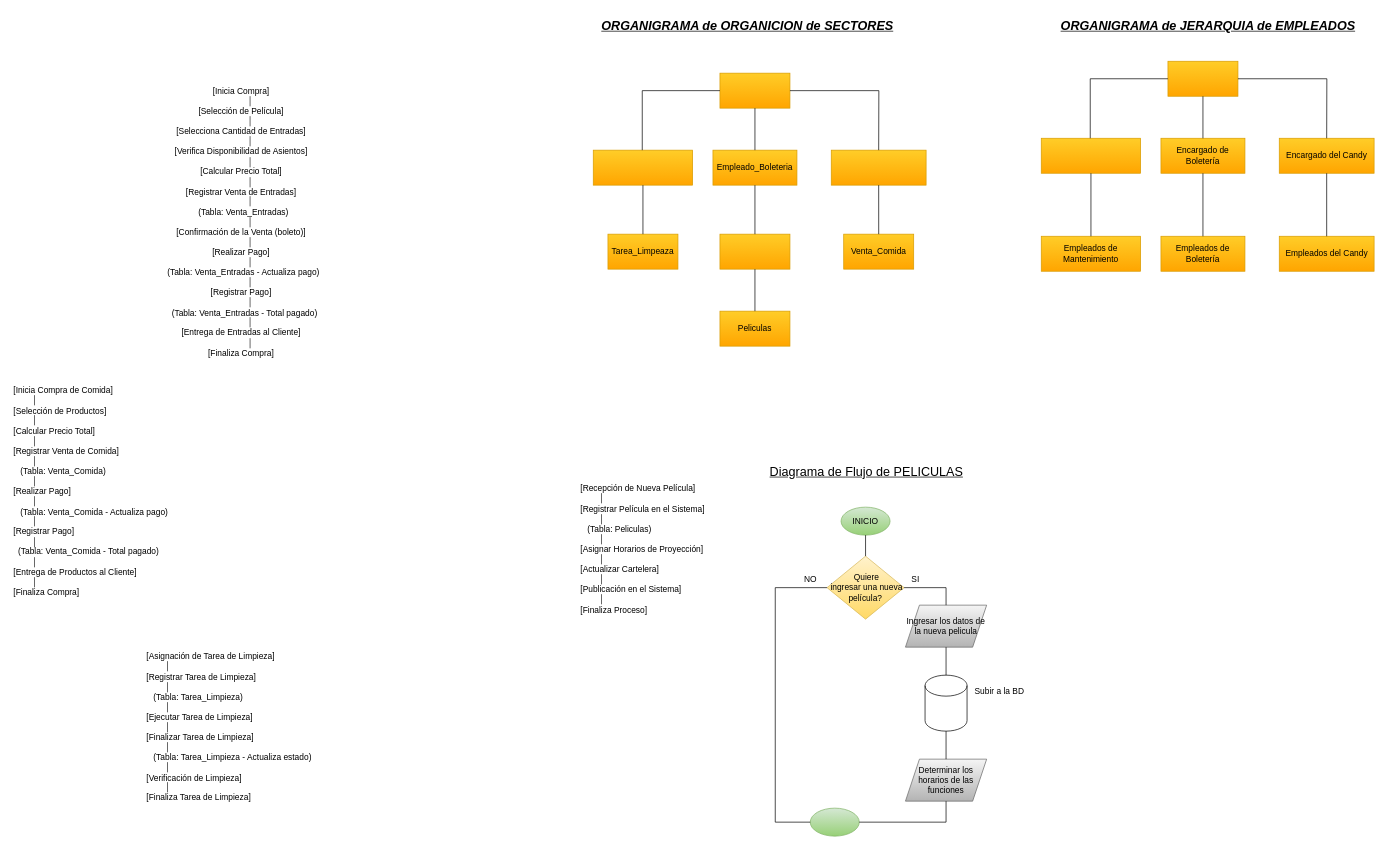
This 1386x848 diagram has some shape labels left out. Each missing label, with the centre of its shape:
"Empleado_Consumibles" goes at point (878, 167).
"Empleado_Mantenimiento" goes at point (643, 167).
"Encargado de Mantenimiento" goes at point (1091, 155).
"FIN" goes at point (834, 821).
"Jefe de Sucursal" goes at point (1202, 78).
"Sucursal" goes at point (754, 90).
"Venta_Entradas" goes at point (754, 251).
